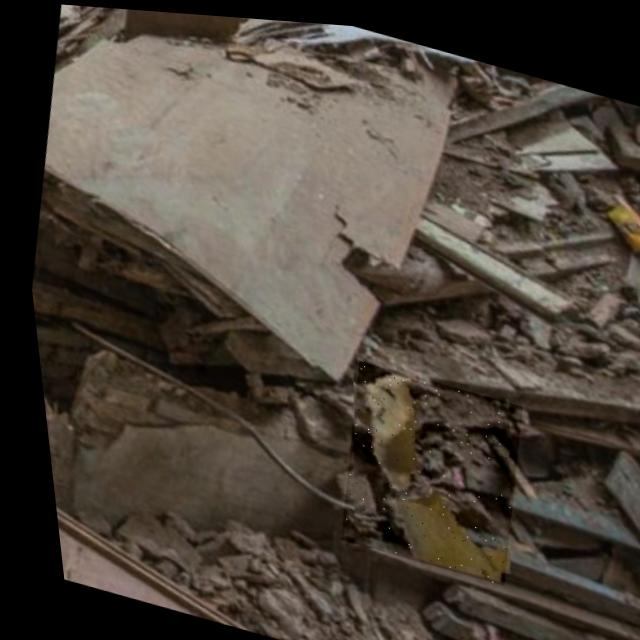Person in Rubble: (312, 353, 529, 581)
